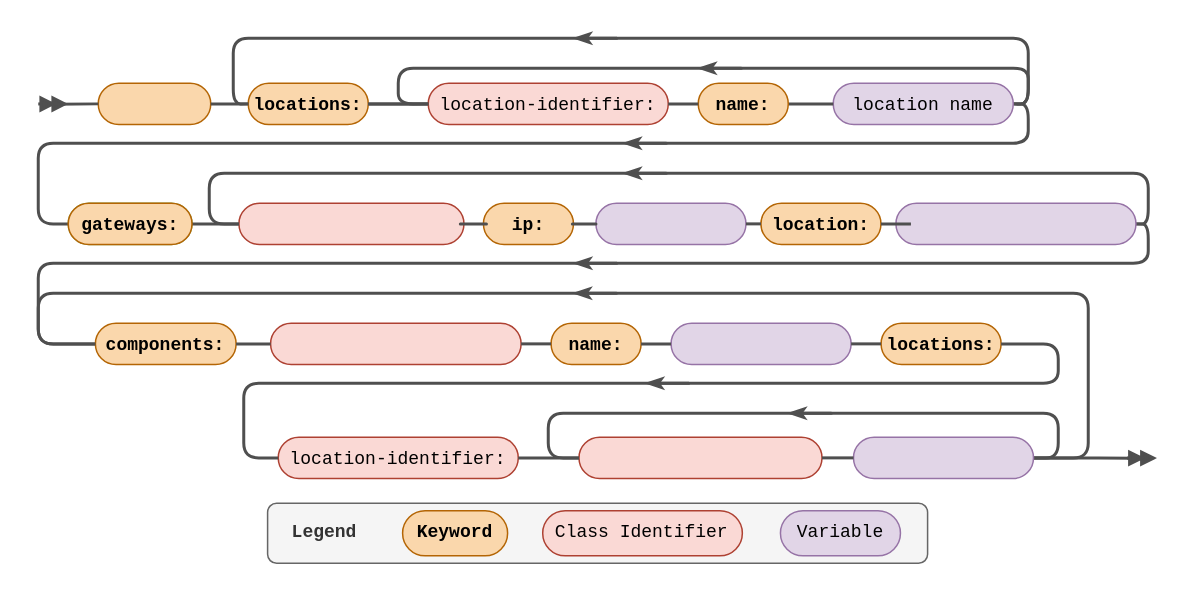
Some shapes in this 1196 by 590 pixel diagram are drawn without their labels. The shapes that lost their labels are listed below. From the top down, each one's centre as x and y in pixels, then its label:
(154,103): campus:
(350,223): gateway-identifier:
(670,223): ip-address
(1015,223): location-identifier
(395,343): component-identifier:
(760,343): component name
(700,457): property-identifier:
(943,457): property value
